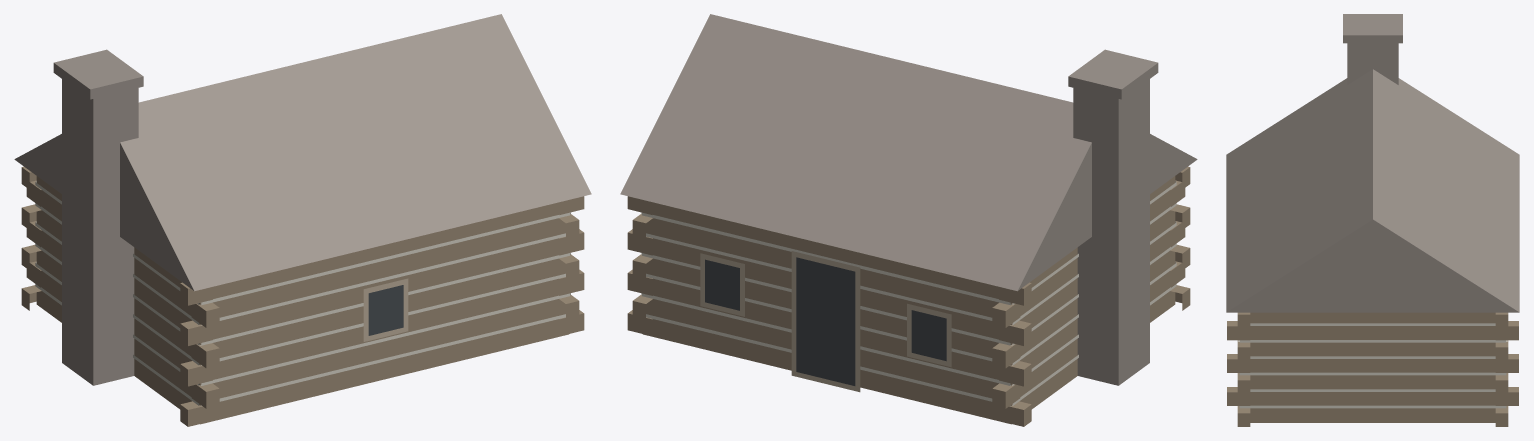
The model's file is robinson_caldwell_cabins__log_1831.glb.
The picture shows the model from 3 angles, left to right: view 1: azimuth 30°, elevation 25°; view 2: azimuth 150°, elevation 25°; view 3: azimuth 270°, elevation 25°; orthographic projection. The views are drawn at different scales.
Visible parts, largest first — view 1: robinson_caldwell_cabins__log_1831; view 2: robinson_caldwell_cabins__log_1831; view 3: robinson_caldwell_cabins__log_1831.
Part boxes in pixels (x1,y1,x2,y2): robinson_caldwell_cabins__log_1831: (14, 14, 591, 426); robinson_caldwell_cabins__log_1831: (620, 14, 1197, 426); robinson_caldwell_cabins__log_1831: (1226, 14, 1519, 426).
Bounding box in the file's own units: 7.57 × 5.11 × 5.5.
